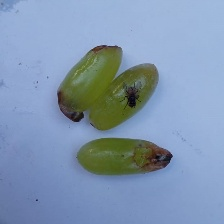grapes: (20, 31, 203, 176)
